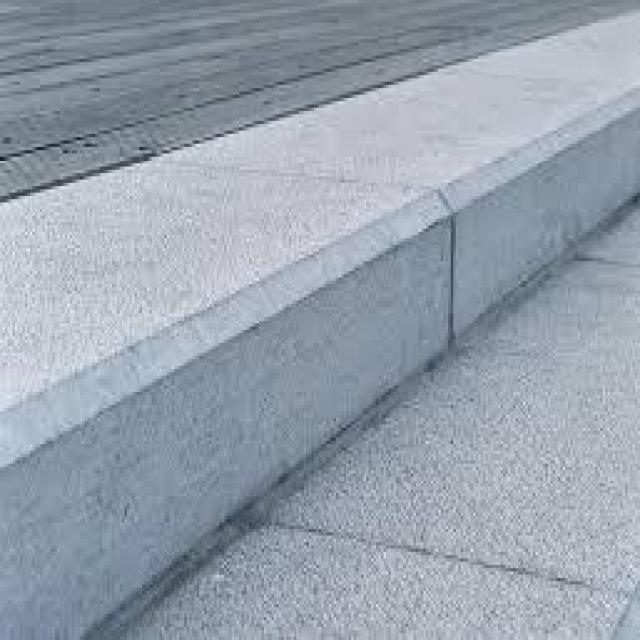curb: (1, 227, 326, 640), (296, 172, 559, 426), (475, 89, 640, 268)
